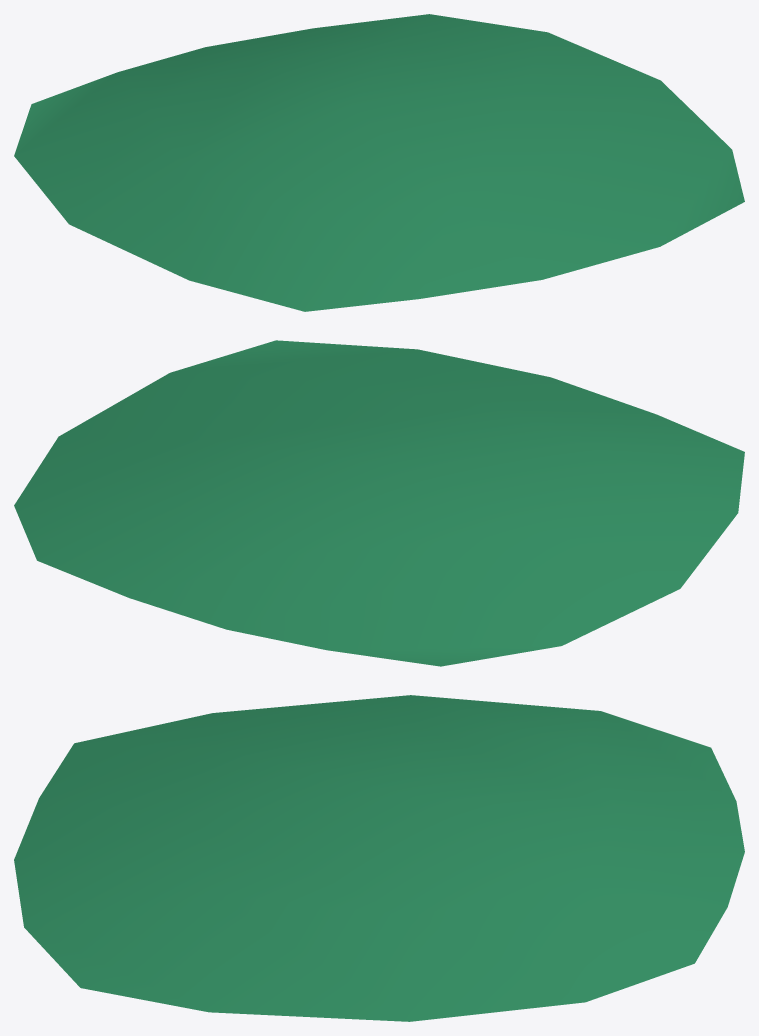
File: mw_ash_pile.FBX
3 renders of one model, top to bottom at view 1: azimuth 30°, elevation 25°; view 2: azimuth 150°, elevation 25°; view 3: azimuth 270°, elevation 25°, orthographic. The views are drawn at different scales.
Visible parts, largest first — view 1: mw_ash_pile; view 2: mw_ash_pile; view 3: mw_ash_pile.
Boxes of the visible parts, bbox=[...] form: mw_ash_pile: bbox=[14, 14, 744, 311]; mw_ash_pile: bbox=[14, 340, 744, 666]; mw_ash_pile: bbox=[14, 695, 744, 1021].
Size of the model in its own units: 187 by 14.75 by 177.
